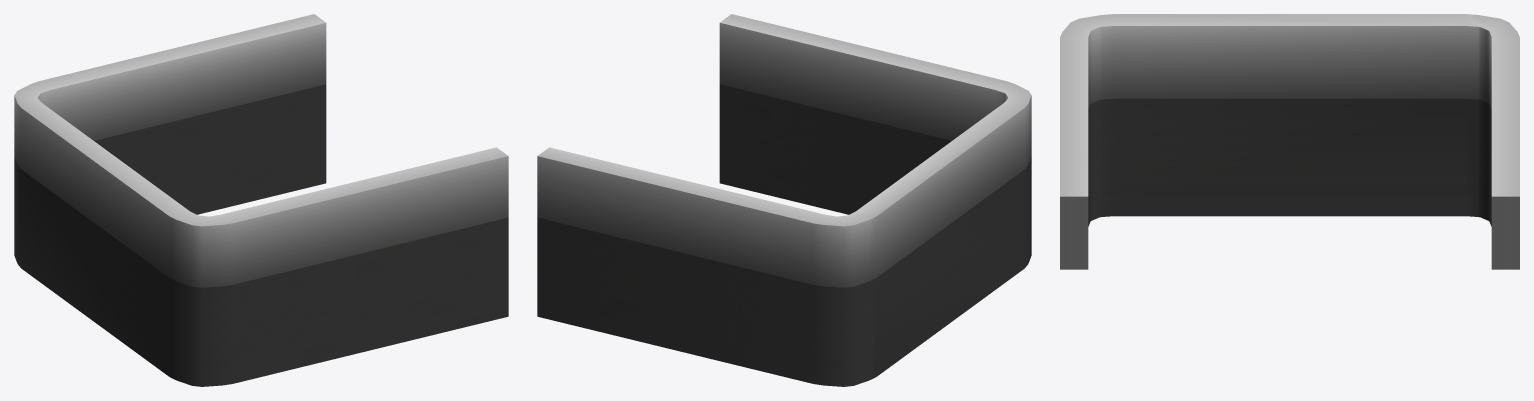
3 renders of one model, left to right at view 1: azimuth 30°, elevation 25°; view 2: azimuth 150°, elevation 25°; view 3: azimuth 270°, elevation 25°, orthographic. The views are drawn at different scales.
Visible parts, largest first — view 1: Plane, PieceType5; view 2: Plane, PieceType5; view 3: PieceType5, Plane.
Part boxes in pixels (x1,y1,x2,y2): Plane: [14, 84, 508, 386]; PieceType5: [14, 14, 508, 287]; Plane: [537, 84, 1031, 386]; PieceType5: [537, 14, 1031, 287]; PieceType5: [1060, 14, 1519, 269]; Plane: [1088, 98, 1491, 226].
Bounding box in the file's own units: 107 × 51.97 × 114.
